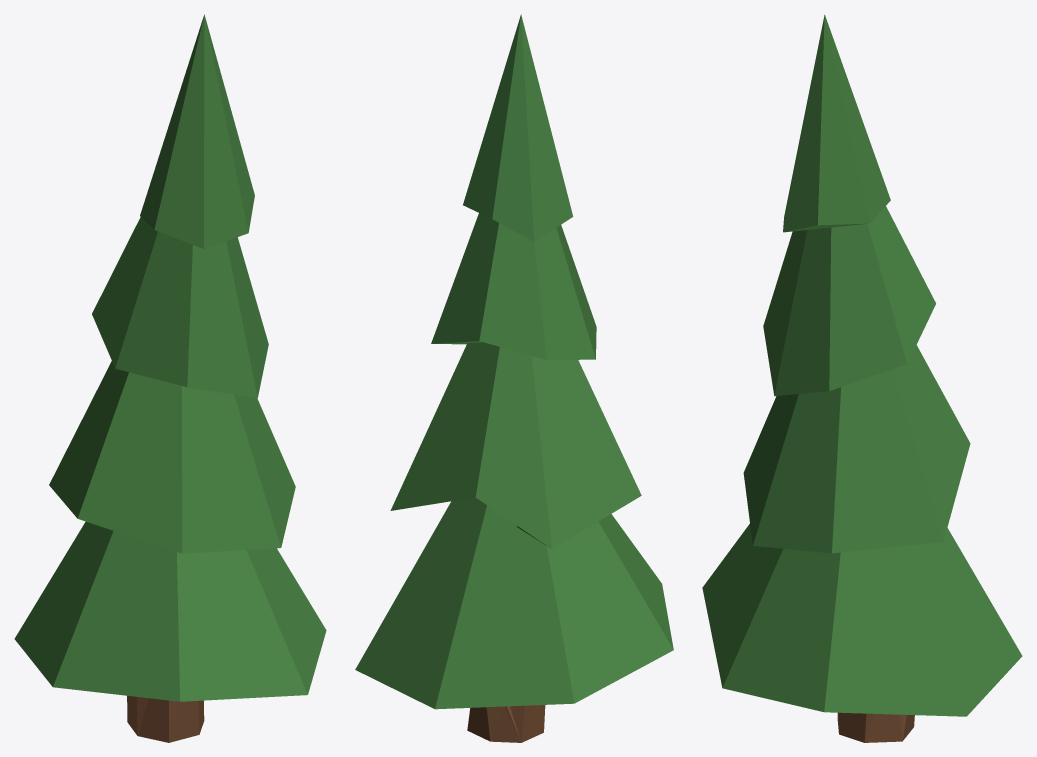
Rendered from CoolTree.fbx.
3 renders of one model, left to right at view 1: azimuth 30°, elevation 25°; view 2: azimuth 150°, elevation 25°; view 3: azimuth 270°, elevation 25°, orthographic. The views are drawn at different scales.
Visible parts, largest first — view 1: Merged, GeneratedBranch; view 2: Merged, GeneratedBranch; view 3: Merged, GeneratedBranch.
Part boxes in pixels (left/top/right/bottom): Merged: left=14, top=14, right=326, bottom=701; GeneratedBranch: left=127, top=695, right=204, bottom=742; Merged: left=355, top=14, right=673, bottom=709; GeneratedBranch: left=467, top=705, right=545, bottom=742; Merged: left=702, top=14, right=1022, bottom=716; GeneratedBranch: left=837, top=712, right=914, bottom=742.
Bounding box in the file's own units: 800 × 2001 × 807.
